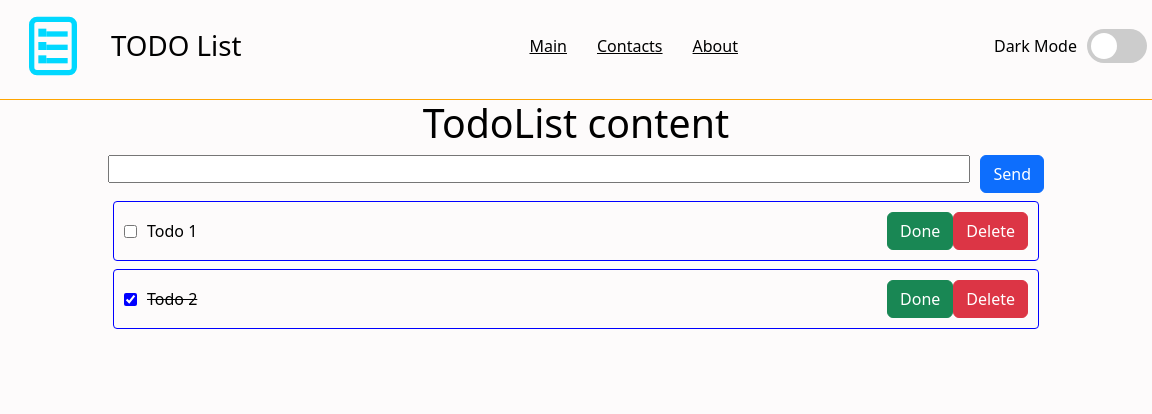
Scenario: Todo App Integration Tests › allows you to enter letters and numbers and successfully adds a task
Type "Task 12345" into the field at (539, 169), box [108,155,970,183]
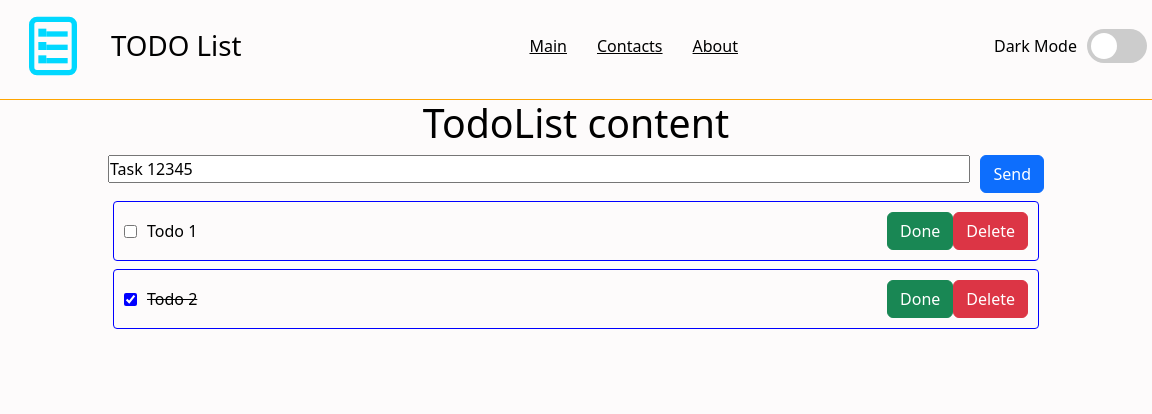
Click the button "Send" at (1012, 174), box [980,155,1044,193]
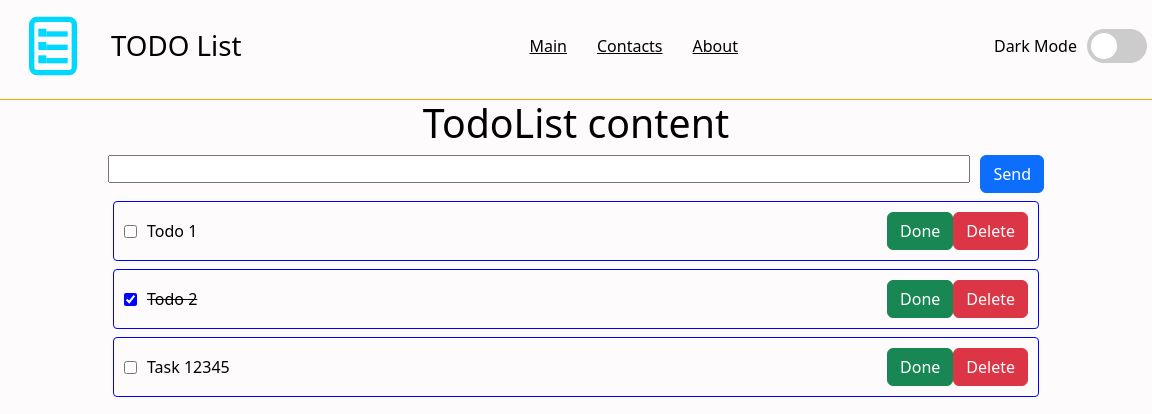
Result: the text "Task 12345" is shown at [147,355,230,379]
Result: the field is empty at [108,155,970,183]
